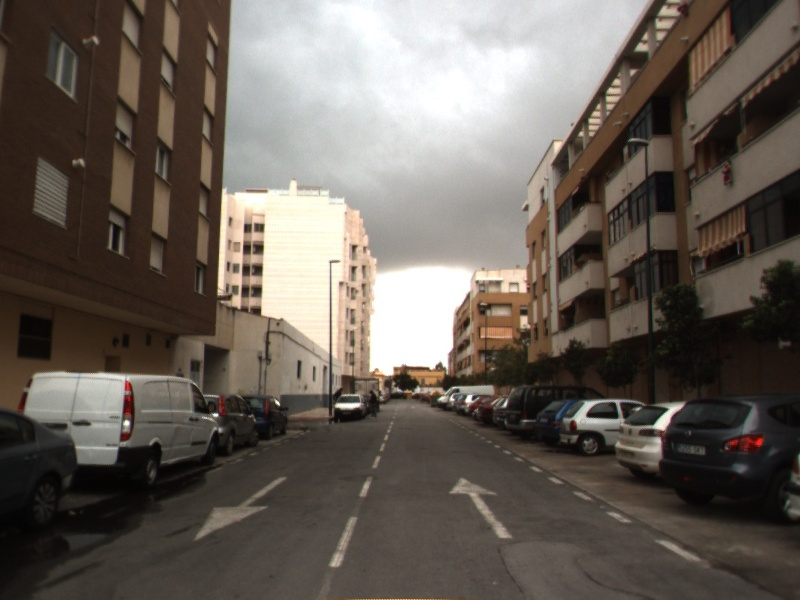STRAIGHT: (447, 475, 516, 540)
